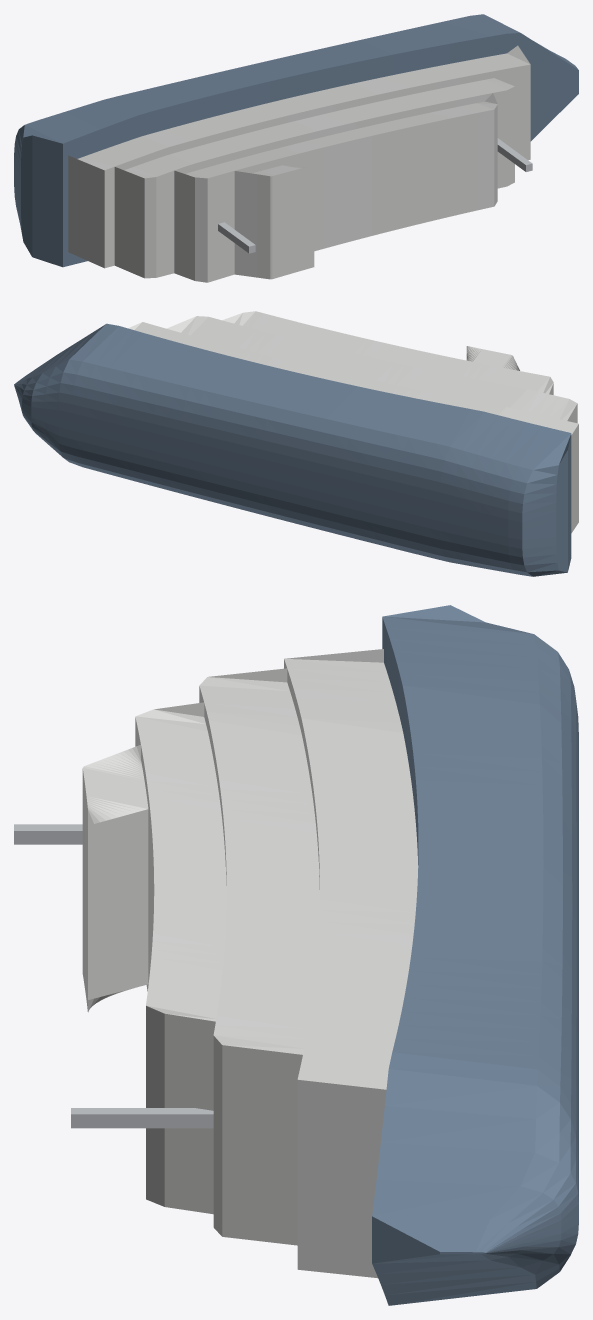
File: loft-cruise-ship-sheered.glb
3 renders of one model, top to bottom at view 1: azimuth 30°, elevation 25°; view 2: azimuth 150°, elevation 25°; view 3: azimuth 270°, elevation 25°, orthographic. The views are drawn at different scales.
Visible parts, largest first — view 1: loft-cruise-ship-sheered; view 2: loft-cruise-ship-sheered; view 3: loft-cruise-ship-sheered.
Part boxes in pixels (left/top/right/bottom): loft-cruise-ship-sheered: left=14, top=14, right=578, bottom=282; loft-cruise-ship-sheered: left=14, top=311, right=578, bottom=576; loft-cruise-ship-sheered: left=14, top=605, right=578, bottom=1305.
Size of the model in its own units: 1.95 by 0.461 by 0.8843.
